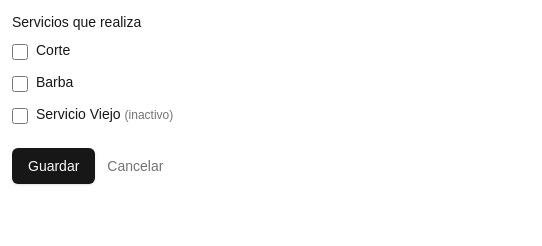
BarberServicesForm - rejection › should_mark_the_offending_checkbox_inline
Click the button "Guardar": (54, 166) [12,148,95,184]
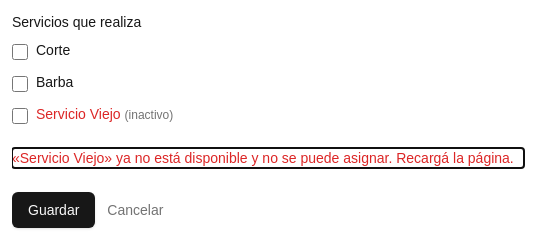
expect the message is shown: met, box [12,148,524,168]
